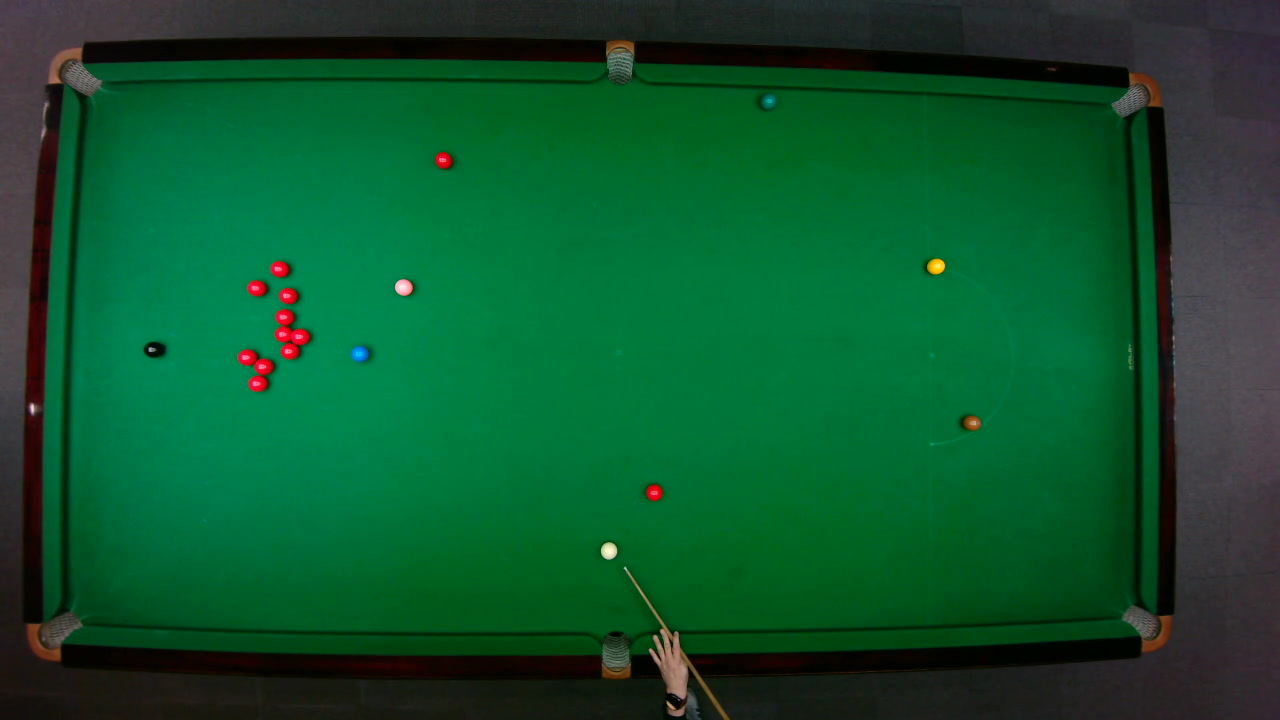bag: (25, 609, 83, 662), (45, 46, 102, 96), (1119, 603, 1172, 652), (1108, 71, 1161, 118), (601, 629, 629, 680), (605, 38, 633, 85)
black: (142, 340, 163, 358)
blue: (349, 344, 370, 362)
brown: (961, 414, 981, 430)
cue: (623, 566, 731, 719)
green: (759, 93, 776, 110)
pink: (392, 277, 413, 296)
red: (286, 326, 310, 345), (235, 347, 258, 366), (252, 356, 274, 375), (244, 278, 267, 296), (246, 374, 268, 392), (268, 259, 290, 277), (433, 150, 453, 169), (273, 307, 294, 325), (277, 286, 298, 304), (644, 482, 663, 501), (272, 325, 293, 342), (279, 342, 300, 359)
white: (598, 540, 618, 559)
yellow: (925, 257, 945, 274)
zone: (927, 263, 1013, 444)
